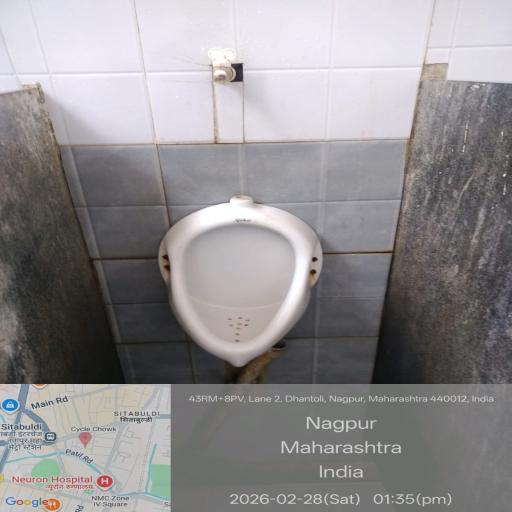clean_floor: (85, 26, 419, 186)
clean_urinal: (136, 183, 362, 436)
